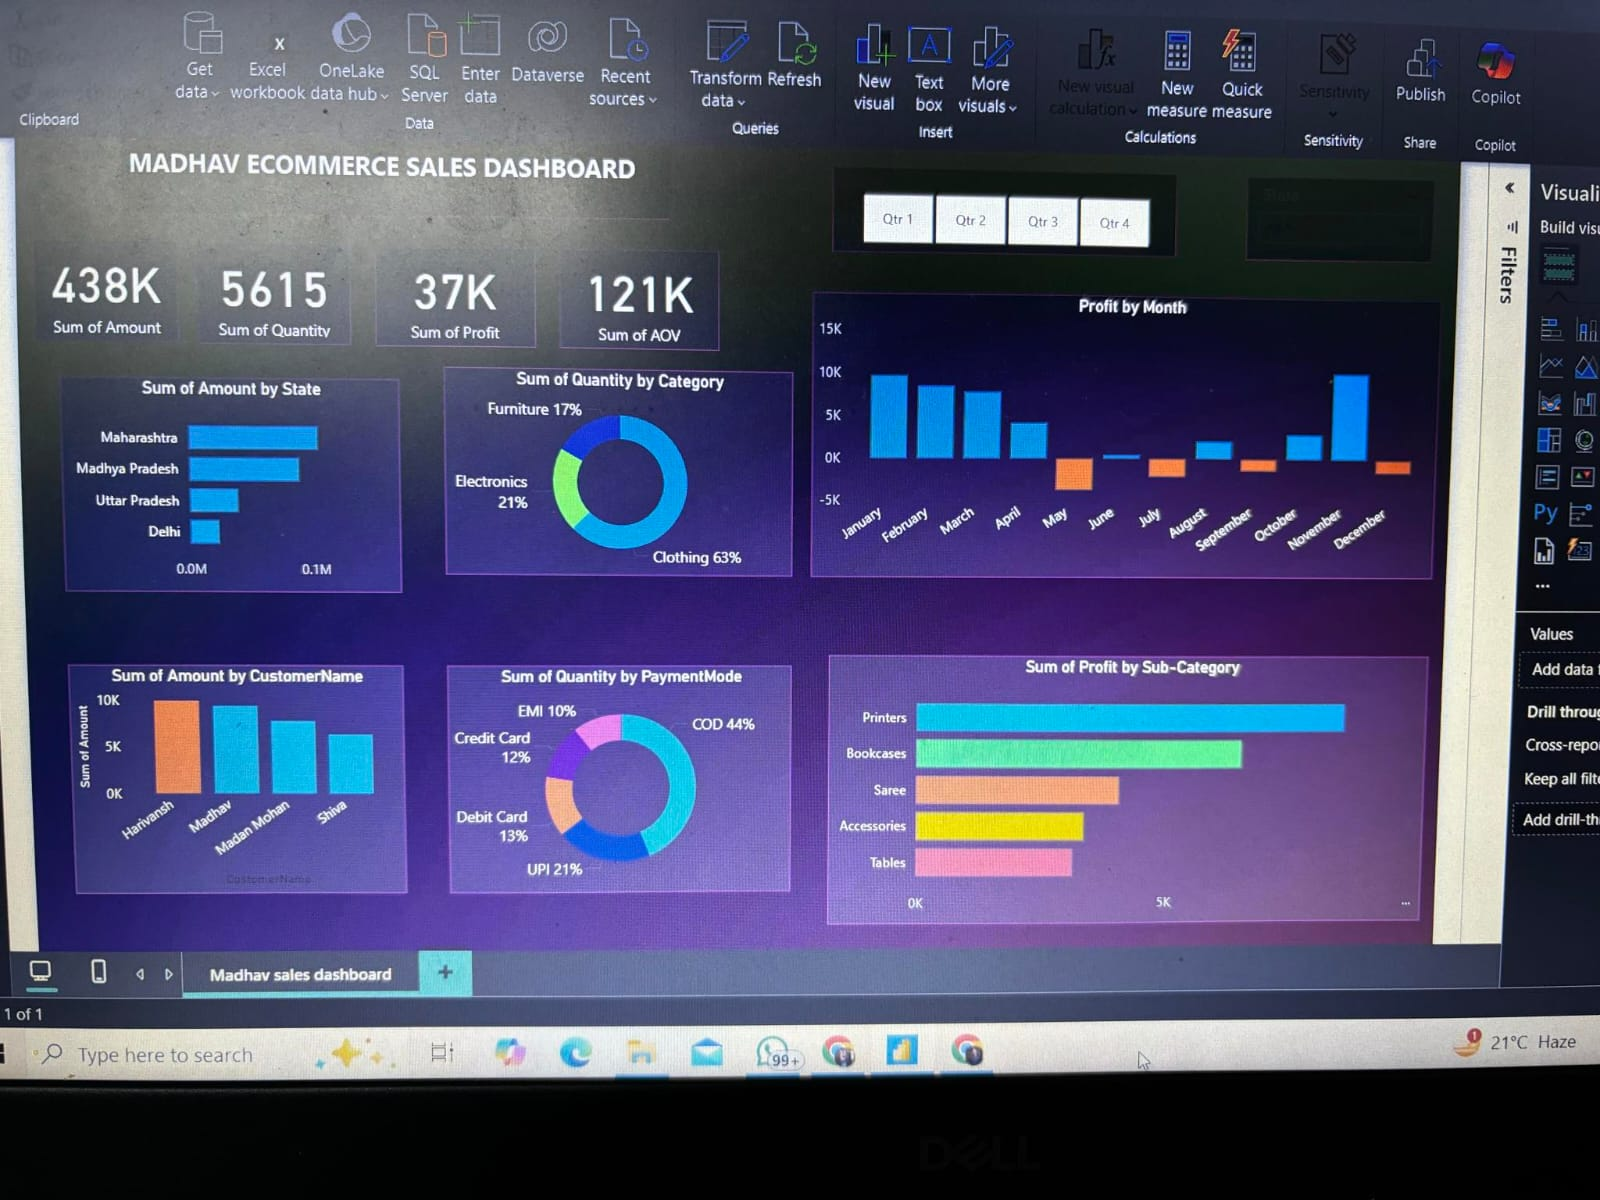

The dashboard page shown, as its layout file describes it:
{"tool":"powerbi","page":{"name":"Madhav sales dashboard","canvas":[1280,720],"ordinal":0},"visuals":[{"type":"textbox","box":[94.7,0,474.8,64.5],"z":0},{"type":"columnChart","title":"Profit by Month","fields":{"Y":["Sum(Details.Profit)"],"Category":["Orders.Order Date.Variation.Date Hierarchy.Month"]},"box":[694.3,124.9,572.2,252.5],"z":1000},{"type":"barChart","fields":{"Category":["Details.Sub-Category"],"Y":["Sum(Details.Profit)"]},"box":[711.8,449.1,554.4,248.2],"z":2000},{"type":"donutChart","fields":{"Category":["Details.Category"],"Y":["Sum(Details.Quantity)"]},"box":[370.5,194.9,307.4,182.5],"z":3000},{"type":"donutChart","fields":{"Y":["Sum(Details.Quantity)"],"Category":["Details.PaymentMode"]},"box":[370.4,458.8,307.5,207],"z":4000},{"type":"card","fields":{"Values":["Sum(Details.Amount)"]},"box":[16.5,87.8,123.5,86.4],"z":5000},{"type":"card","fields":{"Values":["Sum(Details.Quantity)"]},"box":[157.8,89.2,131.7,86.4],"z":6000},{"type":"card","fields":{"Values":["Sum(Details.Profit)"]},"box":[311.5,90.6,140,86.4],"z":7000},{"type":"card","fields":{"Values":["Sum(Details.AOV)"]},"box":[472,90.6,140,86.4],"z":8000},{"type":"barChart","fields":{"Category":["Orders.State"],"Y":["Sum(Details.Amount)"]},"box":[36.3,205.8,295.4,187.6],"z":9000},{"type":"columnChart","fields":{"Category":["Orders.CustomerName"],"Y":["Sum(Details.Amount)"]},"box":[36.3,458.8,295.4,207],"z":10000},{"type":"slicer","fields":{"Values":["Orders.Order Date.Variation.Date Hierarchy.Quarter"]},"box":[712.2,16.5,308.7,72.7],"z":11000},{"type":"slicer","fields":{"Values":["Orders.State"]},"box":[1084.1,17.8,171.5,72.7],"z":12000}]}

Visuals, with their boxes on the page's 1280x720 design canvas (x1, y1, x2, y2). These are canvas units, not pixel positions in the 1600x1200 screenshot, which may show the page scaled, cropped or inside an application window:
textbox: region(95, 0, 570, 64)
"Profit by Month" columnChart: region(694, 125, 1266, 377)
barChart - Details.Sub-Category x Sum(Details.Profit): region(712, 449, 1266, 697)
donutChart - Details.Category x Sum(Details.Quantity): region(370, 195, 678, 377)
donutChart - Sum(Details.Quantity) x Details.PaymentMode: region(370, 459, 678, 666)
card - Sum(Details.Amount): region(16, 88, 140, 174)
card - Sum(Details.Quantity): region(158, 89, 290, 176)
card - Sum(Details.Profit): region(312, 91, 452, 177)
card - Sum(Details.AOV): region(472, 91, 612, 177)
barChart - Orders.State x Sum(Details.Amount): region(36, 206, 332, 393)
columnChart - Orders.CustomerName x Sum(Details.Amount): region(36, 459, 332, 666)
slicer - Orders.Order Date.Variation.Date Hierarchy.Quarter: region(712, 16, 1021, 89)
slicer - Orders.State: region(1084, 18, 1256, 90)
